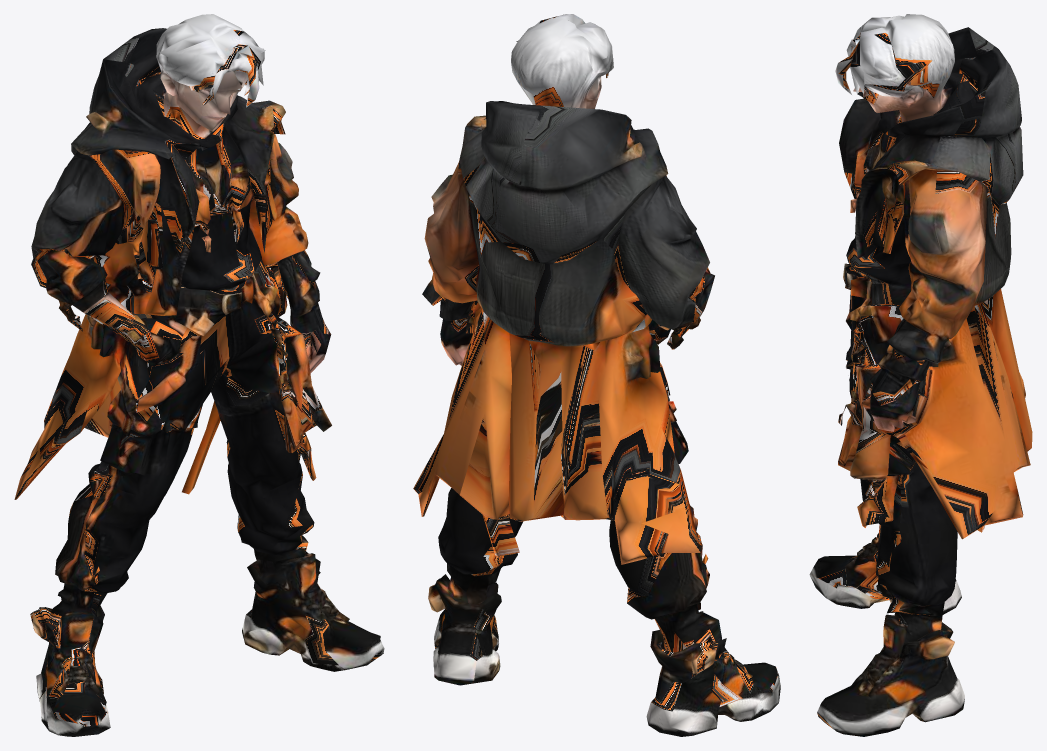
Rendered from rowan-lo.glb.
The picture shows the model from 3 angles, left to right: view 1: azimuth 30°, elevation 25°; view 2: azimuth 150°, elevation 25°; view 3: azimuth 270°, elevation 25°; orthographic projection.
Visible parts, largest first — view 1: model; view 2: model; view 3: model.
Part boxes in pixels (x1,y1,x2,y2): model: (14, 14, 384, 736); model: (413, 14, 780, 736); model: (809, 14, 1032, 736).
Bounding box in the file's own units: 0.9908 × 1.9 × 0.5869.
1 material, 1 textured.
